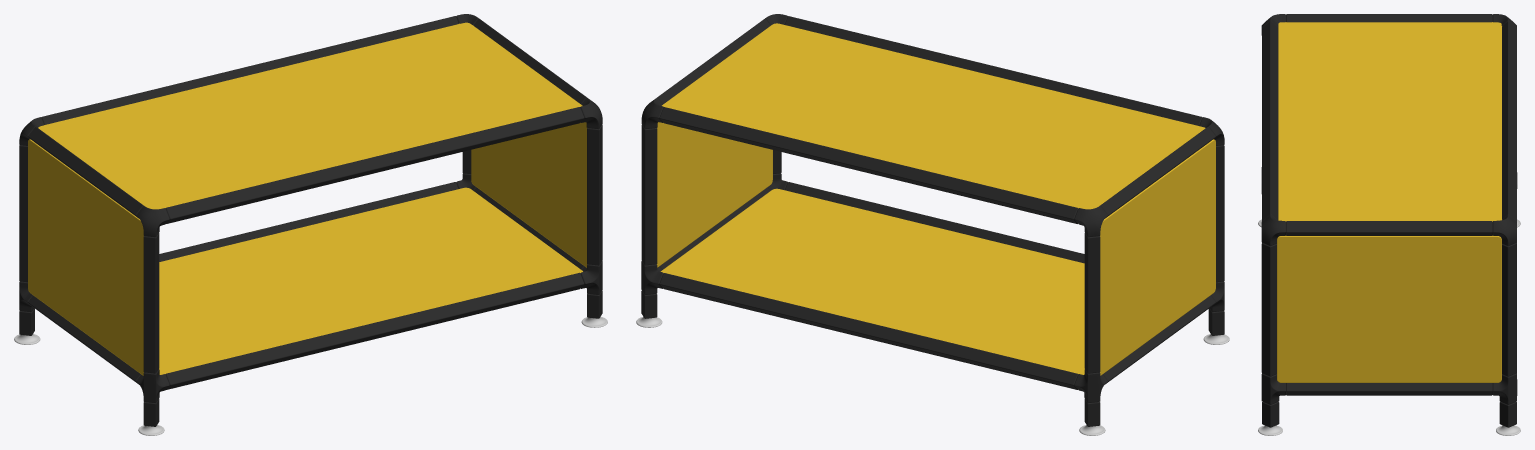
The picture shows the model from 3 angles, left to right: view 1: azimuth 30°, elevation 25°; view 2: azimuth 150°, elevation 25°; view 3: azimuth 270°, elevation 25°; orthographic projection. The views are drawn at different scales.
Parts seen in each view (by area): view 1: 729x329x229; view 2: 729x329x229; view 3: 729x329x229.
Part boxes in pixels (<box>): 729x329x229: <box>14,14,607,435</box>; 729x329x229: <box>636,14,1229,435</box>; 729x329x229: <box>1258,14,1520,435</box>.
Bounding box in the file's own units: 0.8189 × 0.3683 × 0.4182.
